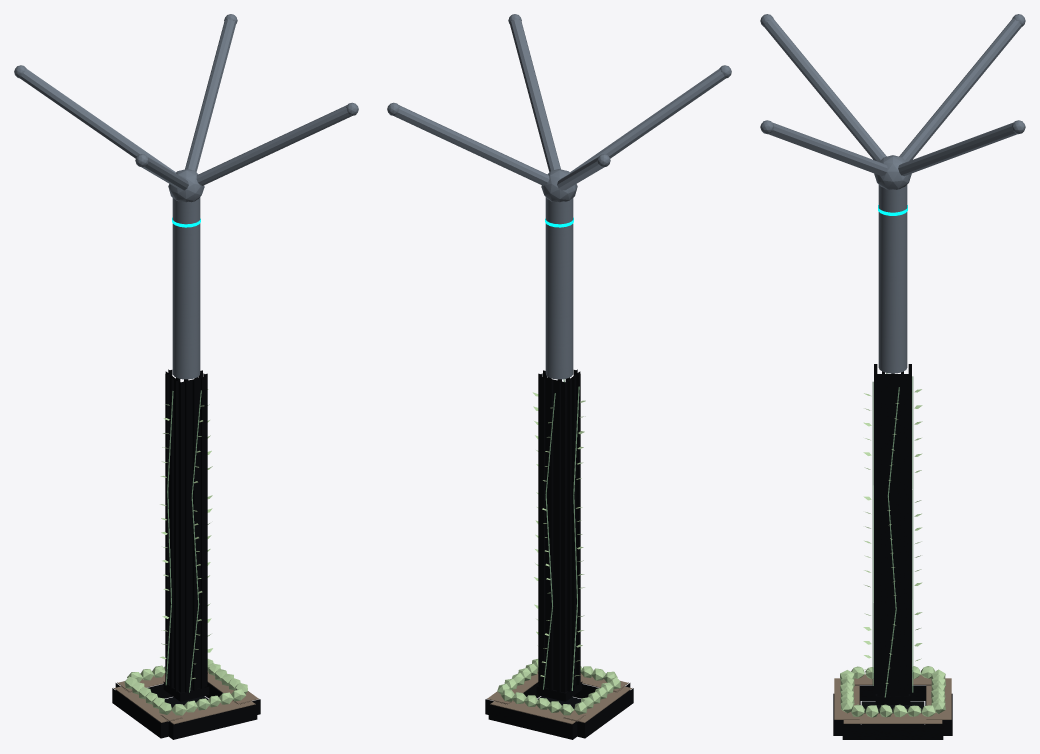
3 renders of one model, left to right at view 1: azimuth 30°, elevation 25°; view 2: azimuth 150°, elevation 25°; view 3: azimuth 270°, elevation 25°, orthographic. The views are drawn at different scales.
Parts seen in each view (by area): view 1: Trunk_Clad, Tree_Steel, Planter_Trough, Foliage, Planter_Soil, Vine_Stems; view 2: Trunk_Clad, Tree_Steel, Planter_Trough, Foliage, Planter_Soil, Vine_Stems; view 3: Tree_Steel, Trunk_Clad, Planter_Trough, Foliage, Planter_Soil, Vine_Stems, Vine_Leaves.
Part boxes in pixels (bbox=[...]): Trunk_Clad: bbox=[165, 369, 207, 692]; Tree_Steel: bbox=[14, 14, 358, 379]; Planter_Trough: bbox=[112, 682, 260, 739]; Foliage: bbox=[124, 659, 247, 715]; Planter_Soil: bbox=[114, 671, 258, 724]; Vine_Stems: bbox=[165, 390, 201, 692]; Trunk_Clad: bbox=[538, 369, 580, 692]; Tree_Steel: bbox=[387, 14, 731, 379]; Planter_Trough: bbox=[485, 682, 633, 739]; Foliage: bbox=[497, 659, 620, 715]; Planter_Soil: bbox=[487, 671, 631, 724]; Vine_Stems: bbox=[543, 379, 579, 690]; Tree_Steel: bbox=[760, 14, 1025, 373]; Trunk_Clad: bbox=[874, 364, 911, 697]; Planter_Trough: bbox=[833, 685, 952, 739]; Foliage: bbox=[840, 666, 945, 717]; Planter_Soil: bbox=[834, 674, 951, 723]; Vine_Stems: bbox=[872, 373, 913, 697]; Vine_Leaves: bbox=[863, 389, 922, 683].
Size of the model in its own units: 8.45 by 22.73 by 8.45.
Materials: 7 (3 with a texture image).
